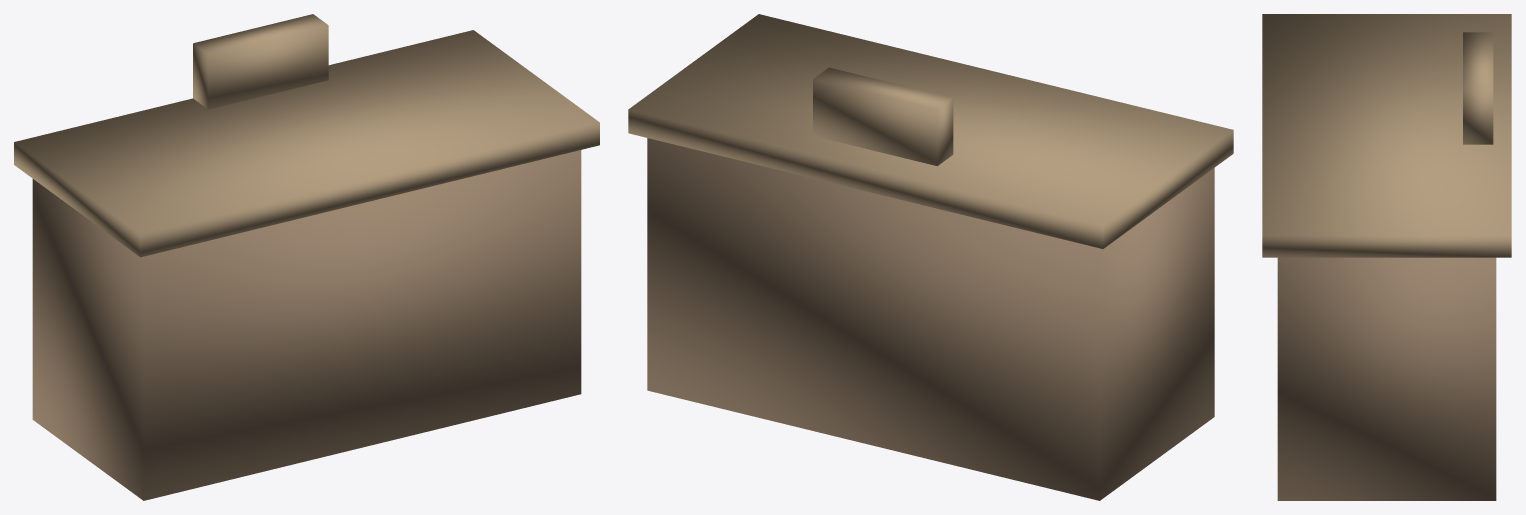
Rendered from judge_bench__deep.glb.
3 views of the same model, side by side, from view 1: azimuth 30°, elevation 25°; view 2: azimuth 150°, elevation 25°; view 3: azimuth 270°, elevation 25° (orthographic). The views are drawn at different scales.
Parts seen in each view (by area): view 1: world; view 2: world; view 3: world.
Boxes of the visible parts, x1,y1,x2,y2 form: world: (14,14,599,500); world: (628,14,1233,500); world: (1262,14,1511,500).
Bounding box in the file's own units: 2.1 × 1.48 × 1.
